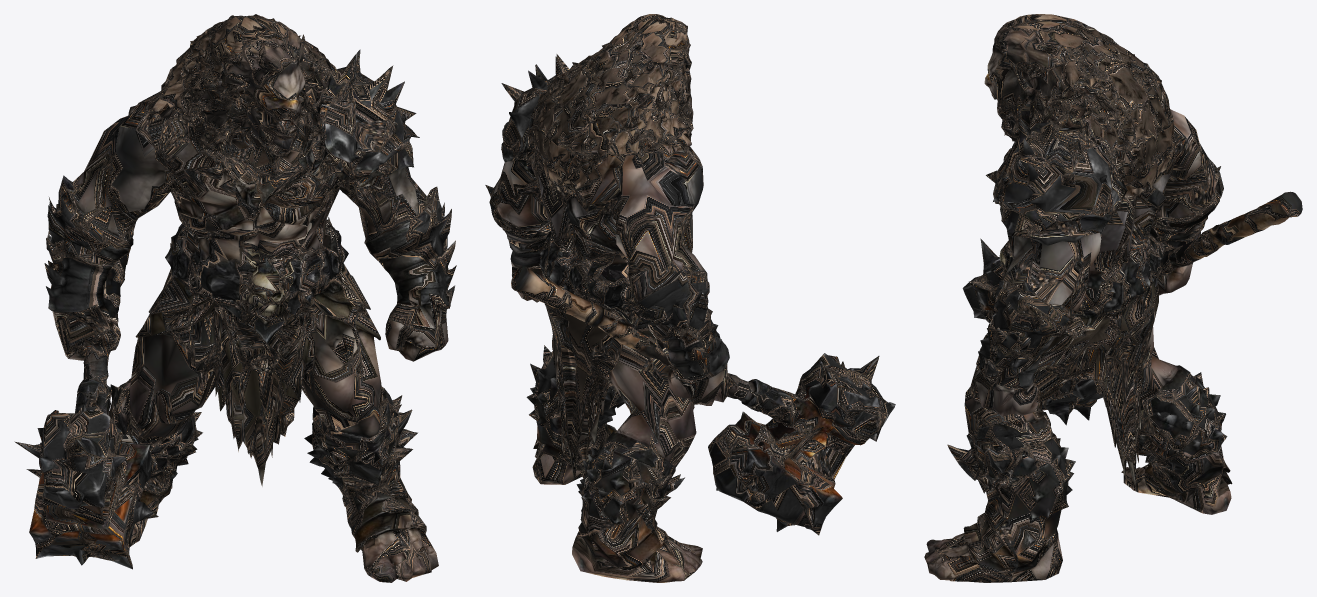
File: hill-giant.glb
3 renders of one model, left to right at view 1: azimuth 30°, elevation 25°; view 2: azimuth 150°, elevation 25°; view 3: azimuth 270°, elevation 25°, orthographic. The views are drawn at different scales.
Size of the model in its own units: 1.57 by 1.9 by 1.28.
1 material, 1 textured.
